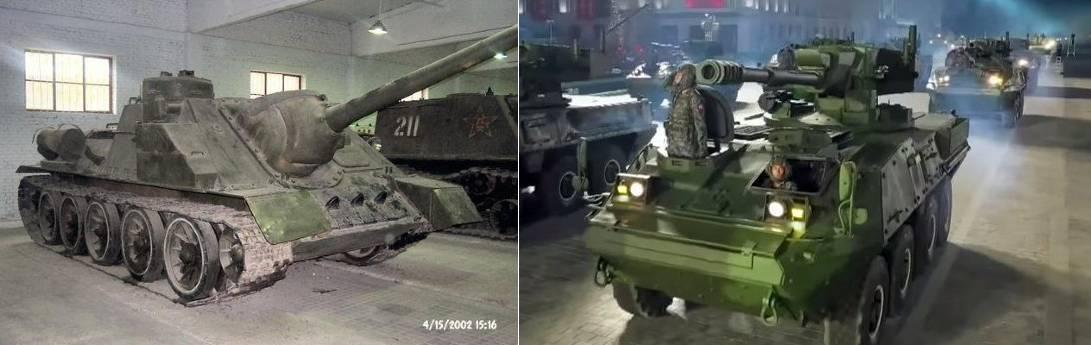MIL_IFV: (586, 27, 970, 344), (15, 62, 479, 306)
